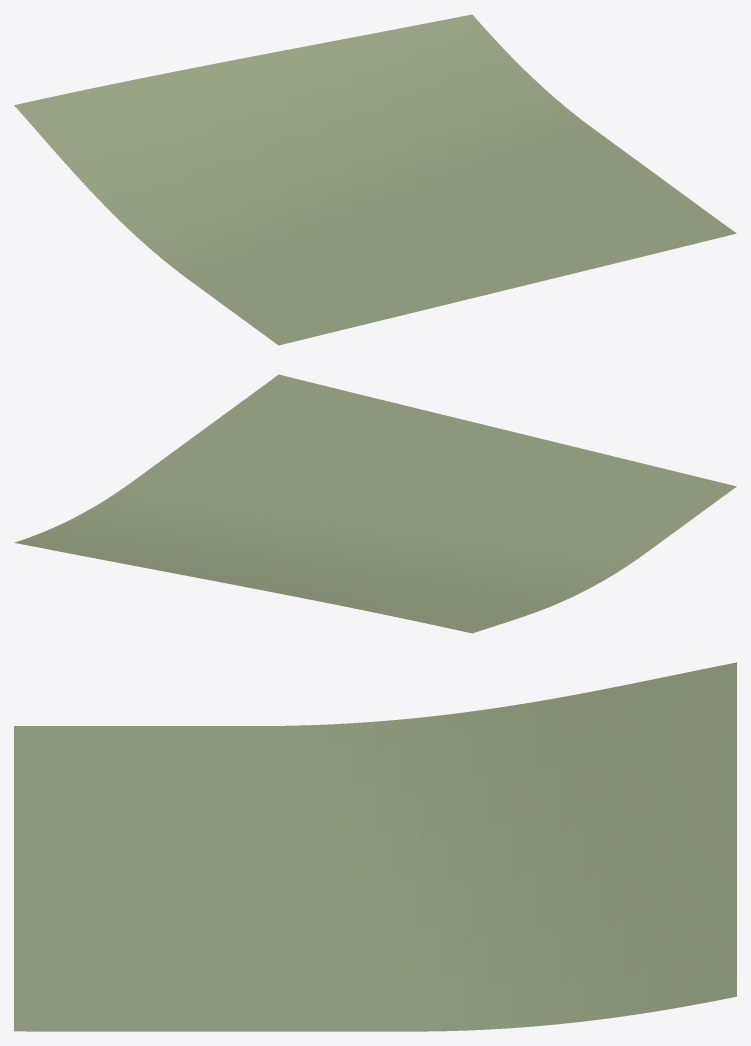
The model's file is valley-6-7.glb.
3 views of the same model, one above another, from view 1: azimuth 30°, elevation 25°; view 2: azimuth 150°, elevation 25°; view 3: azimuth 270°, elevation 25° (orthographic). The views are drawn at different scales.
Parts seen in each view (by area): view 1: valley-6-7; view 2: valley-6-7; view 3: valley-6-7.
Boxes of the visible parts, left/top/right/bottom form: valley-6-7: left=14, top=14, right=736, bottom=345; valley-6-7: left=14, top=374, right=736, bottom=633; valley-6-7: left=14, top=662, right=736, bottom=1031.
Bounding box in the file's own units: 256 × 24.9 × 256.
